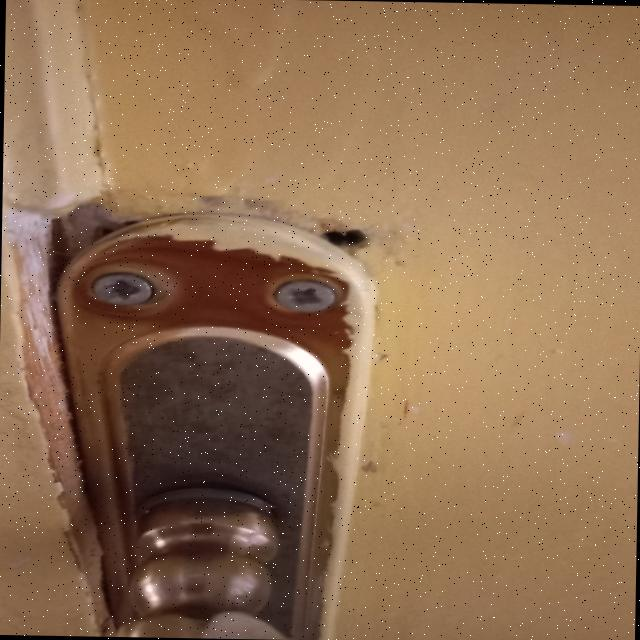Phillips: (84, 274, 166, 308), (274, 278, 344, 316)
